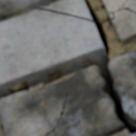brick: (0, 11, 105, 91), (102, 0, 135, 45), (43, 0, 92, 20)
broken_brick: (0, 67, 125, 135), (108, 52, 135, 124), (0, 0, 59, 21)
crack: (0, 0, 135, 134), (46, 105, 64, 135), (109, 9, 135, 21)
